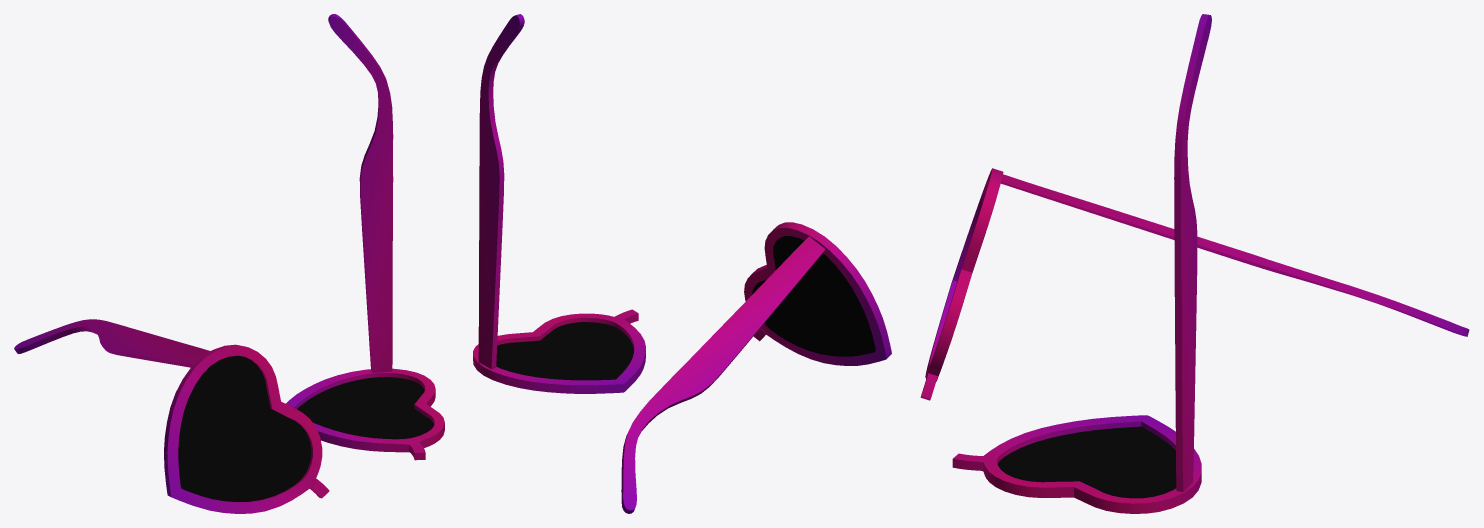
Rendered from glassesBroken.glb.
3 views of the same model, side by side, from view 1: azimuth 30°, elevation 25°; view 2: azimuth 150°, elevation 25°; view 3: azimuth 270°, elevation 25° (orthographic). The views are drawn at different scales.
Parts seen in each view (by area): view 1: brokenGlasses.002; view 2: brokenGlasses.002; view 3: brokenGlasses.002.
Boxes of the visible parts, x1,y1,x2,y2 form: brokenGlasses.002: (14, 14, 444, 513); brokenGlasses.002: (473, 14, 891, 513); brokenGlasses.002: (920, 14, 1469, 513).
Bounding box in the file's own units: 0.7589 × 0.8153 × 0.8726.
1 material, 1 textured.
